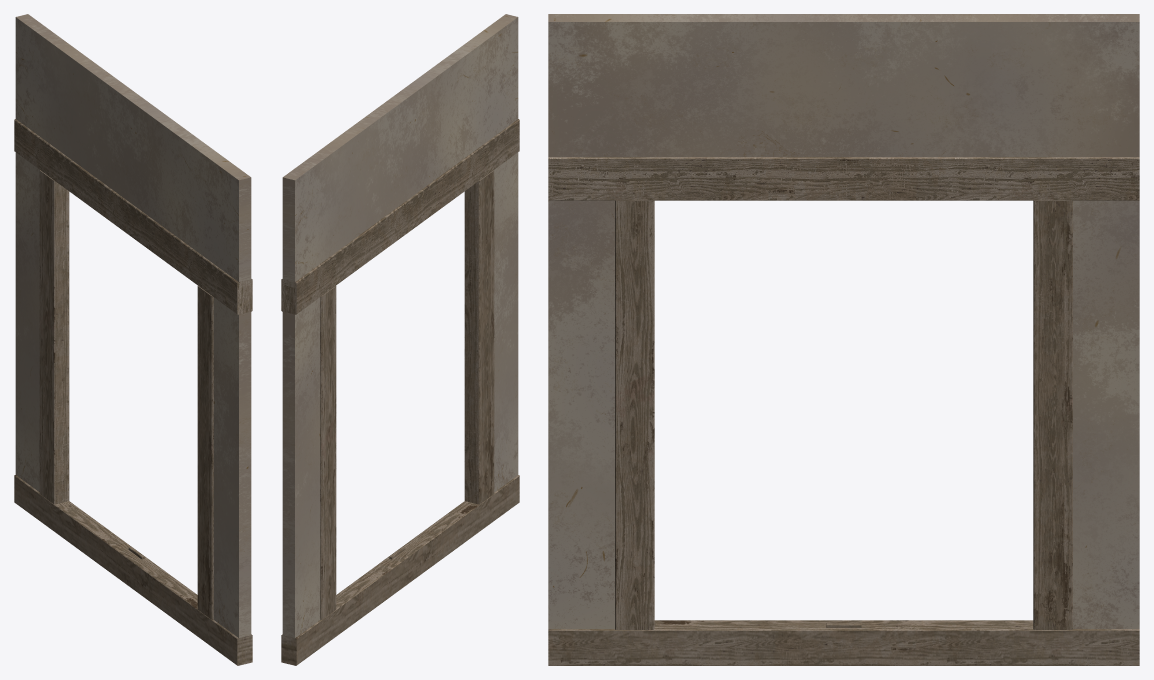
Rendered from SM_JWD_Wall01a.fbx.
3 views of the same model, side by side, from view 1: azimuth 30°, elevation 25°; view 2: azimuth 150°, elevation 25°; view 3: azimuth 270°, elevation 25° (orthographic). The views are drawn at different scales.
Parts seen in each view (by area): view 1: SM_JWD_Wall01a; view 2: SM_JWD_Wall01a; view 3: SM_JWD_Wall01a.
Part boxes in pixels (x1=…): SM_JWD_Wall01a: x1=14, y1=14, x2=252, y2=665; SM_JWD_Wall01a: x1=281, y1=14, x2=519, y2=665; SM_JWD_Wall01a: x1=548, y1=14, x2=1139, y2=665.
Bounding box in the file's own units: 10 × 250 × 300.
Materials: 2 (2 with a texture image).
